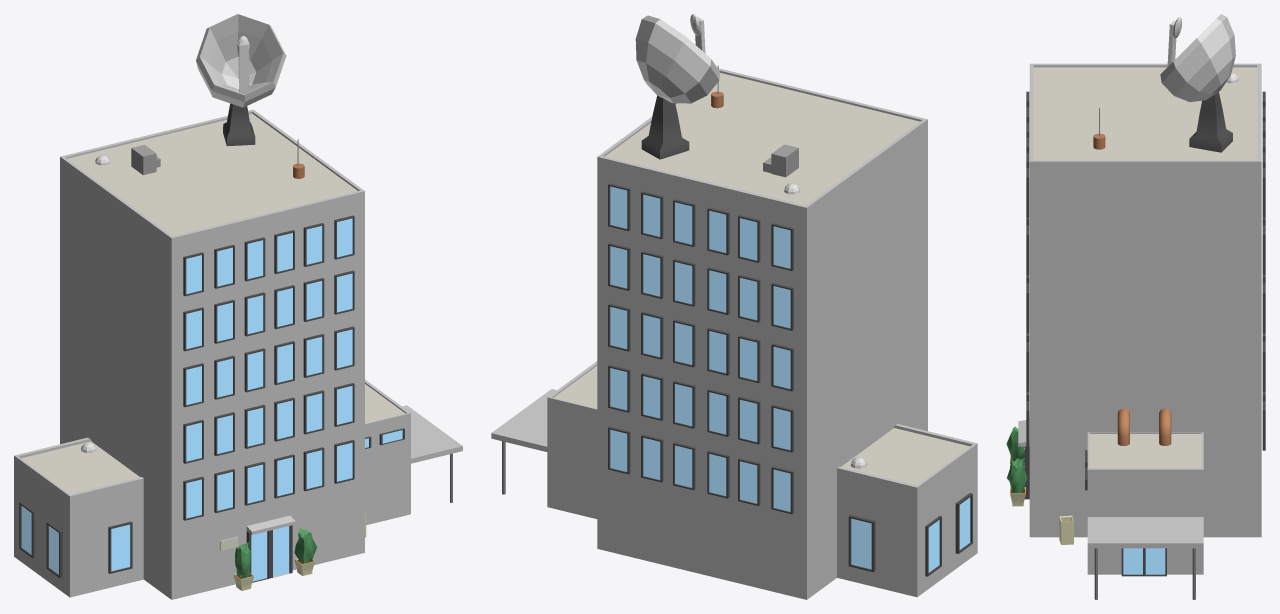
File: Headquarters Building.glb
The picture shows the model from 3 angles, left to right: view 1: azimuth 30°, elevation 25°; view 2: azimuth 150°, elevation 25°; view 3: azimuth 270°, elevation 25°; orthographic projection. The views are drawn at different scales.
Visible parts, largest first — view 1: pCube1, pSphere1, pCube36, pCube5, pCube20, pCube32, pCube7, pCube14, pCube16, pCube26, pCube11, pCube28 (+25 smaller); view 2: pCube1, pSphere1, pCube5, pCube39, pCube43, pCube52, pCube66, pCube41, pCube45, pCube49, pCube50, pCube51 (+25 smaller); view 3: pCube1, pSphere1, pCube5, pCube78, pCube77, pCube75_node, pCylinder5, pCylinder6, pCube71, pCube75.
Boxes of the visible parts, bbox=[...] form: pCube1: bbox=[14, 109, 462, 599]; pSphere1: bbox=[196, 14, 286, 107]; pCube36: bbox=[108, 521, 132, 573]; pCube5: bbox=[223, 103, 255, 146]; pCube20: bbox=[244, 348, 265, 392]; pCube32: bbox=[244, 237, 265, 281]; pCube7: bbox=[303, 447, 324, 491]; pCube14: bbox=[244, 404, 265, 448]; pCube16: bbox=[303, 390, 324, 434]; pCube26: bbox=[244, 292, 265, 336]; pCube11: bbox=[244, 461, 265, 505]; pCube28: bbox=[303, 278, 324, 321]; pCube1: bbox=[491, 68, 977, 599]; pSphere1: bbox=[635, 15, 719, 103]; pCube5: bbox=[641, 95, 689, 159]; pCube39: bbox=[848, 515, 875, 572]; pCube43: bbox=[771, 466, 793, 514]; pCube52: bbox=[771, 343, 793, 391]; pCube66: bbox=[707, 207, 729, 255]; pCube41: bbox=[641, 434, 663, 482]; pCube45: bbox=[707, 451, 729, 498]; pCube49: bbox=[673, 380, 695, 428]; pCube50: bbox=[641, 373, 663, 420]; pCube51: bbox=[608, 365, 630, 412]; pCube1: bbox=[1018, 63, 1261, 574]; pSphere1: bbox=[1160, 14, 1235, 101]; pCube5: bbox=[1189, 92, 1232, 152]; pCube78: bbox=[1144, 548, 1166, 576]; pCube77: bbox=[1121, 548, 1143, 576]; pCube75_node: bbox=[1007, 457, 1027, 493]; pCylinder5: bbox=[1159, 408, 1171, 445]; pCylinder6: bbox=[1117, 408, 1129, 445]; pCube71: bbox=[1059, 515, 1073, 544]; pCube75: bbox=[1006, 426, 1024, 460].
Bounding box in the file's own units: 2.05 × 2.39 × 1.12.
